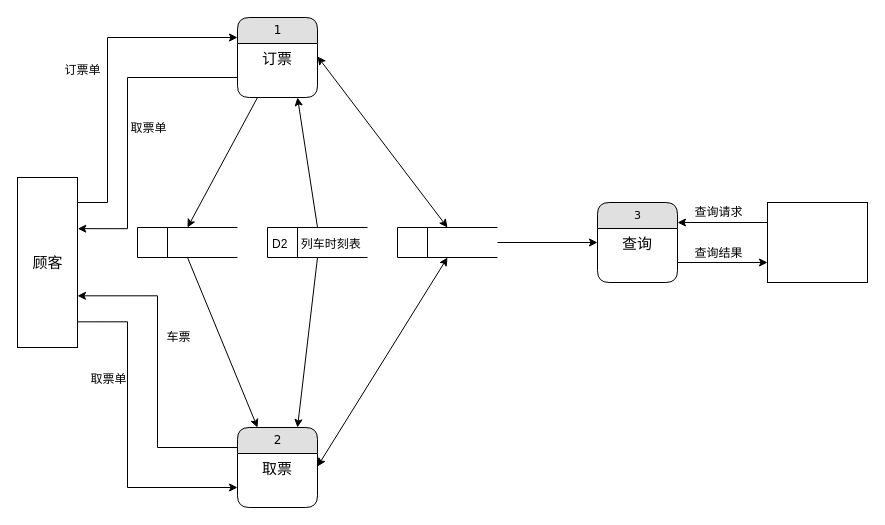
Some shapes in this 885 by 525 pixel diagram are drawn without their labels. Each missing label, with the centre of its shape:
"D1 顾客信息表" goes at point (187, 242).
"D3 订票信息表" goes at point (447, 242).
"售票员" goes at point (817, 242).
